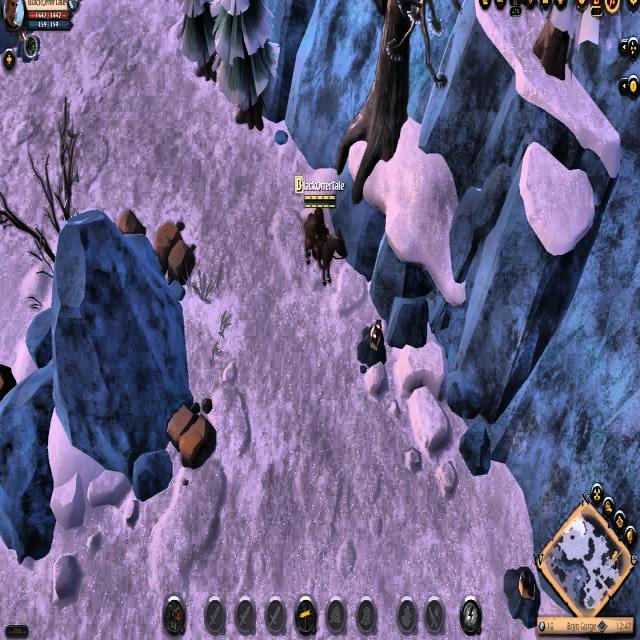copperore: (503, 556, 543, 626), (357, 317, 388, 368)
limestone: (167, 400, 217, 470), (152, 220, 196, 284), (113, 206, 148, 241), (0, 354, 19, 416)
